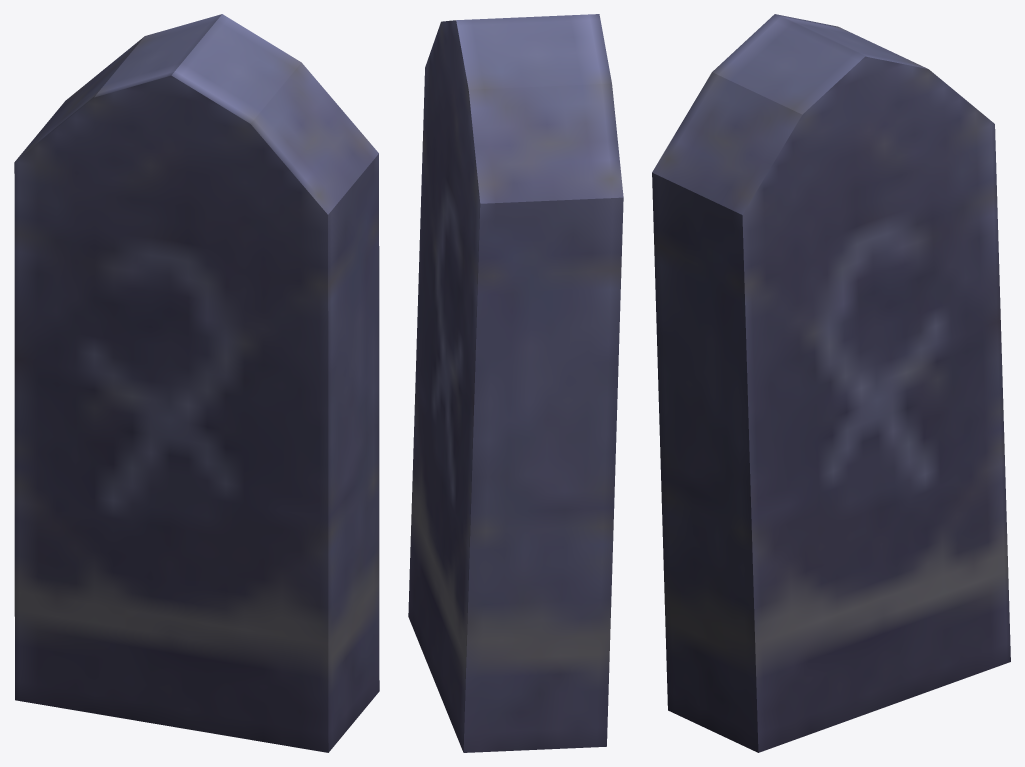
File: Area09_5.fbx
The picture shows the model from 3 angles, left to right: view 1: azimuth 30°, elevation 25°; view 2: azimuth 150°, elevation 25°; view 3: azimuth 270°, elevation 25°; orthographic projection. The views are drawn at different scales.
Visible parts, largest first — view 1: Area09_5; view 2: Area09_5; view 3: Area09_5.
Part boxes in pixels (bbox=[...]): Area09_5: bbox=[14, 14, 379, 752]; Area09_5: bbox=[408, 14, 623, 752]; Area09_5: bbox=[652, 14, 1010, 752].
Bounding box in the file's own units: 246 × 540 × 270.
